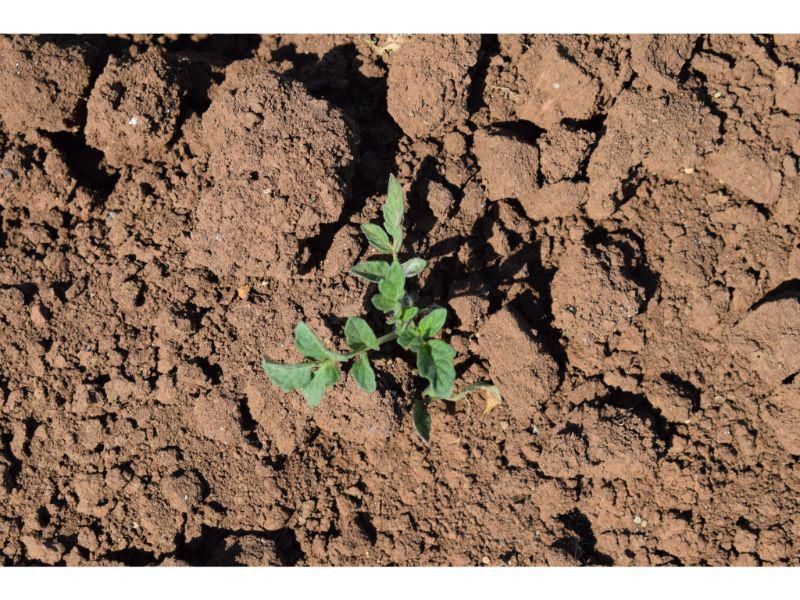tomato: (262, 170, 457, 405)
